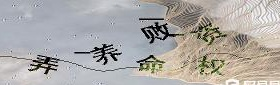chinese: (188, 17, 230, 44), (142, 24, 176, 47), (86, 42, 117, 65), (27, 53, 58, 74), (197, 57, 224, 79), (134, 56, 163, 75)
